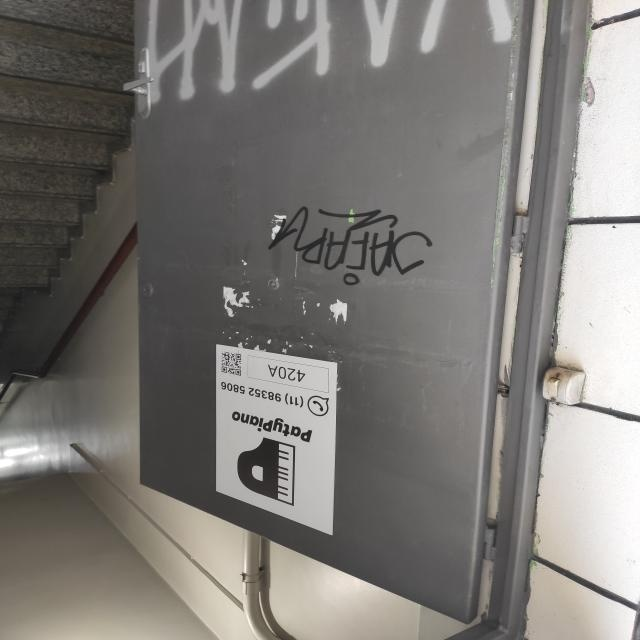qr-code: (222, 351, 242, 376)
